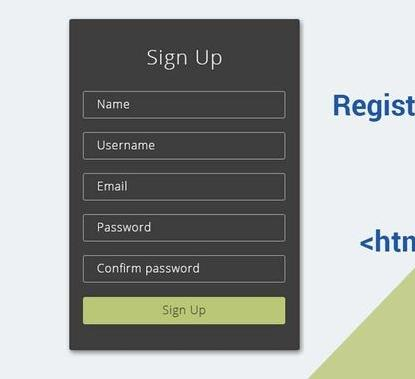button: (80, 296, 289, 327)
field: (80, 254, 289, 285), (82, 131, 287, 162), (80, 213, 289, 243), (82, 90, 289, 120), (82, 173, 287, 203)
